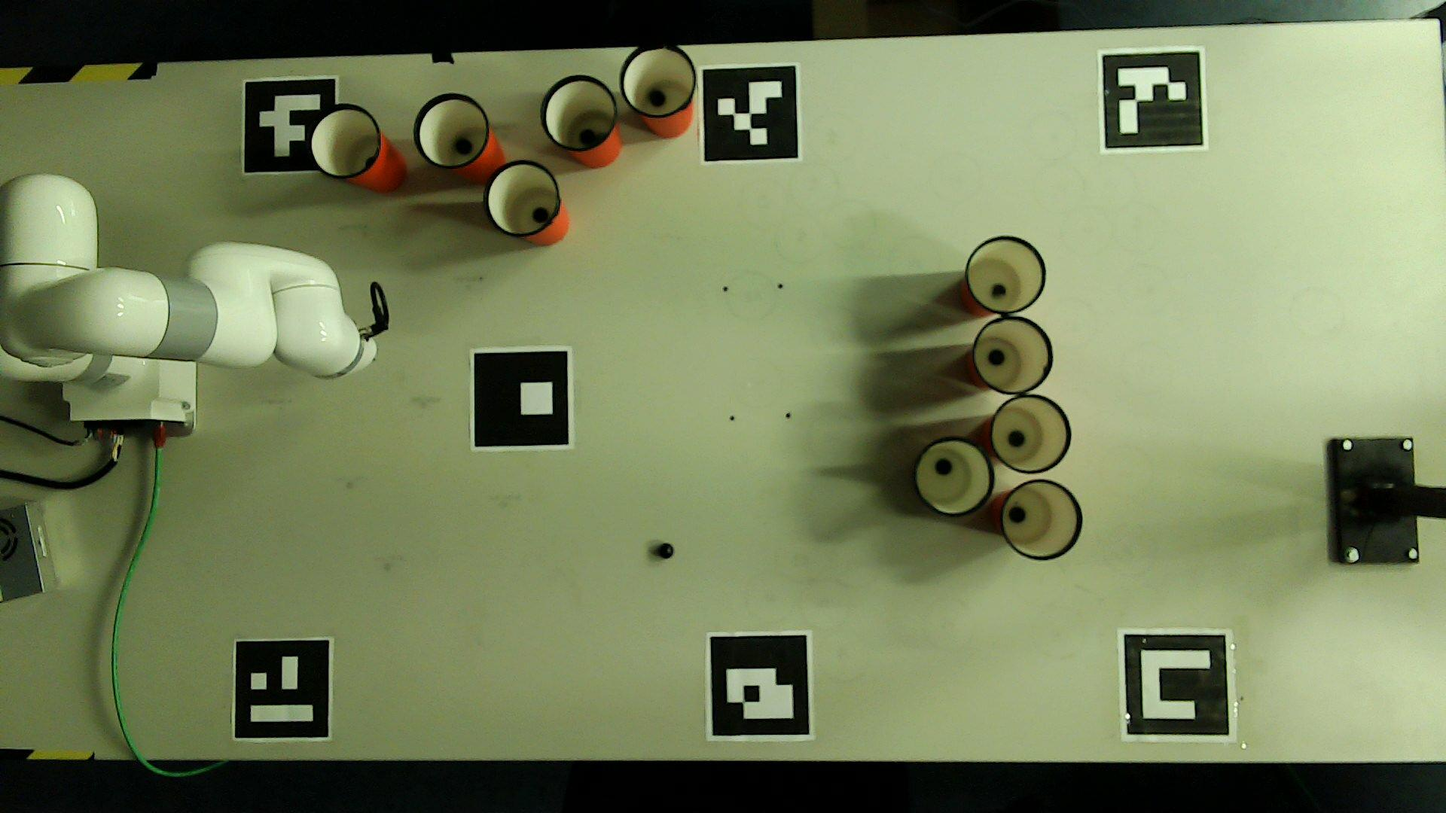ball: (456, 138, 472, 153), (1010, 508, 1025, 522), (651, 91, 666, 105), (989, 350, 1002, 364), (579, 131, 594, 143), (659, 545, 673, 557), (992, 285, 1006, 297), (533, 208, 547, 220), (938, 460, 950, 473), (1012, 433, 1024, 445)
cup: (1004, 481, 1081, 559), (991, 396, 1069, 472), (915, 439, 992, 515), (974, 318, 1051, 394), (967, 238, 1045, 313), (485, 162, 559, 235), (543, 77, 616, 150), (416, 94, 487, 166), (623, 46, 694, 116), (310, 105, 379, 176)
